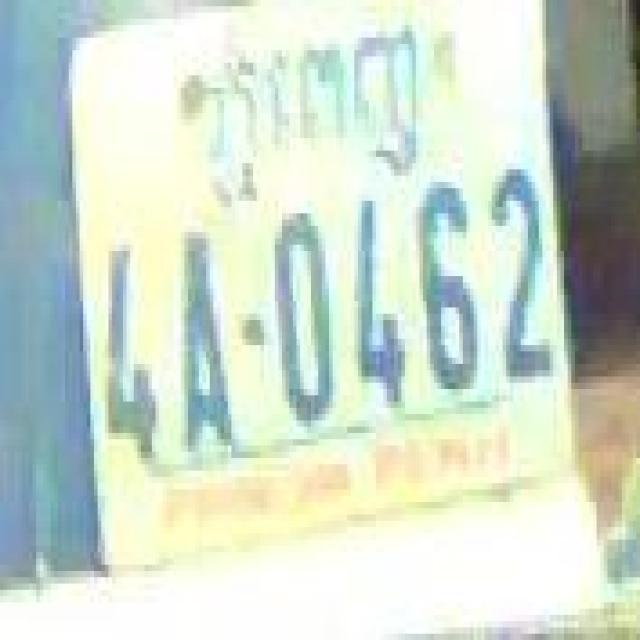Phnom_Penh: (206, 25, 416, 195)
